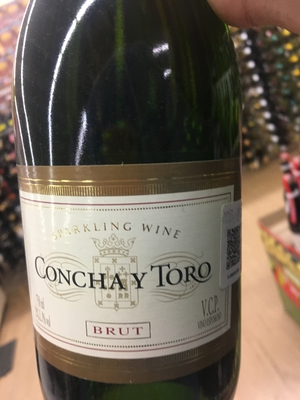brut: (15, 13, 254, 400)
